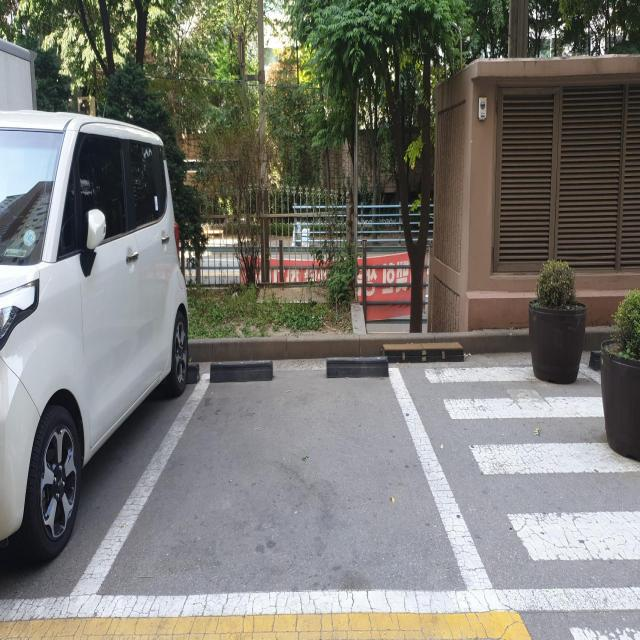횡단보도: (422, 363, 640, 640)
